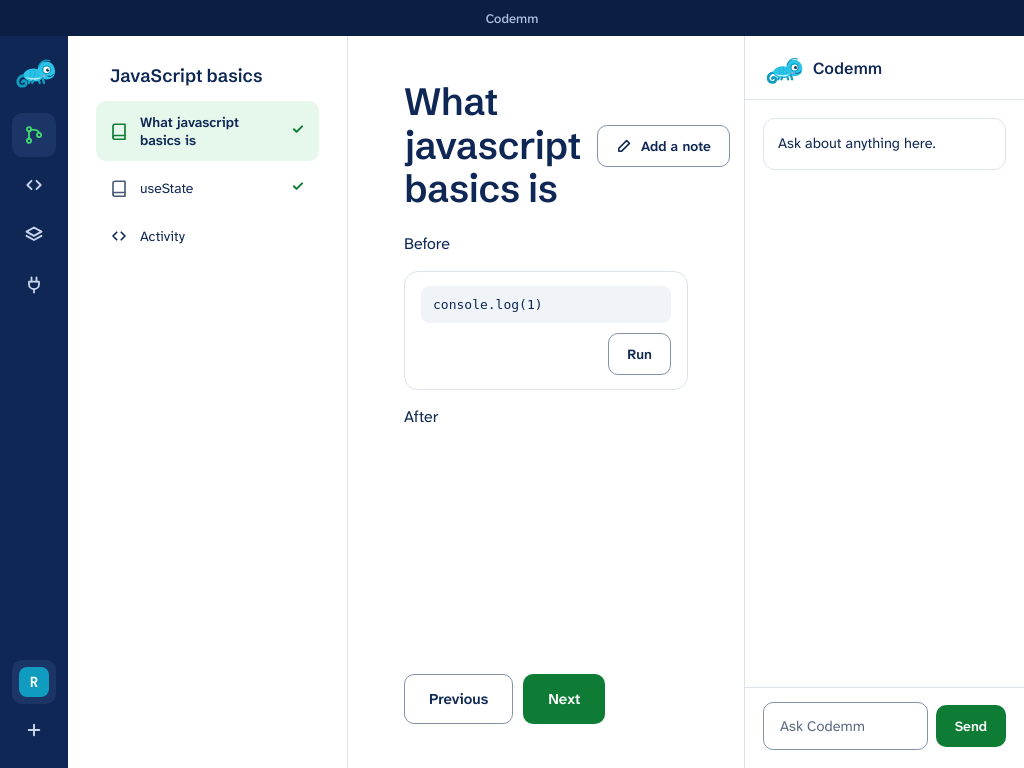
Test: lesson examples › shows each example where the lesson places it, and runs it on request
This screenshot has width=1024, height=768.
Expected: the element named "Example 1" shows "console.log(1)", [433,297,543,312]
Click the button "Run": [640, 354] box [608,333,671,375]
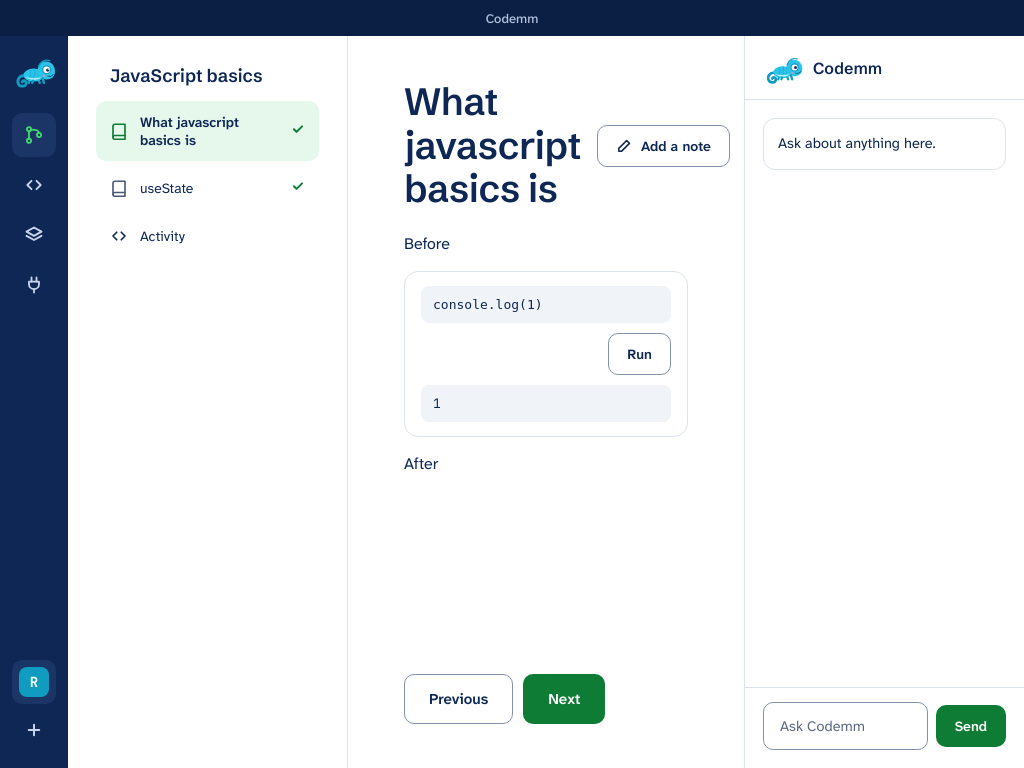
Expected: the text "Before" is shown, [404,233,450,254]
Expected: the text "1" is shown, [421,385,671,422]
